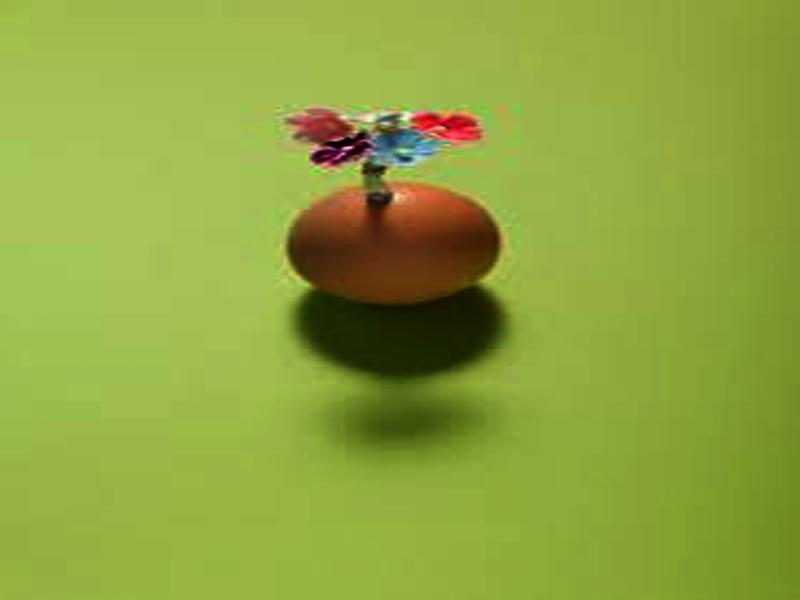Eggs: (288, 183, 497, 305)
